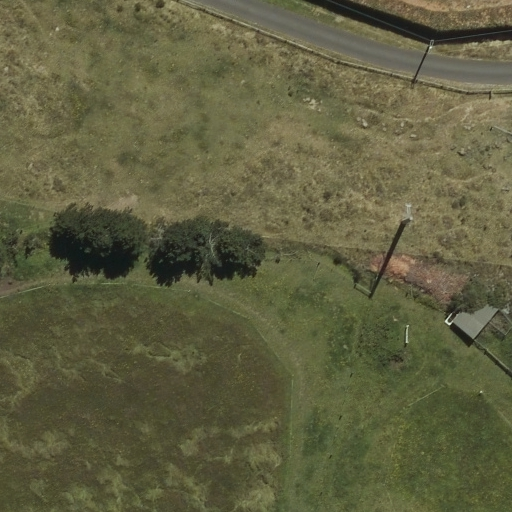DT: (417, 30, 443, 61)
